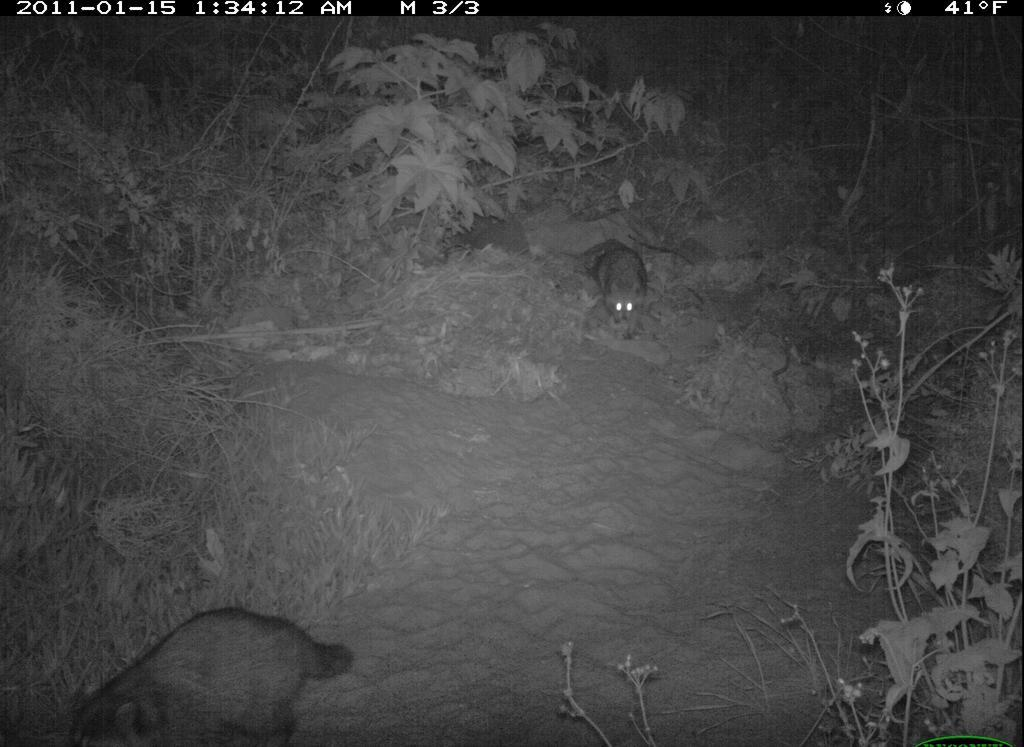raccoon: (47, 596, 378, 747), (575, 227, 671, 345)
